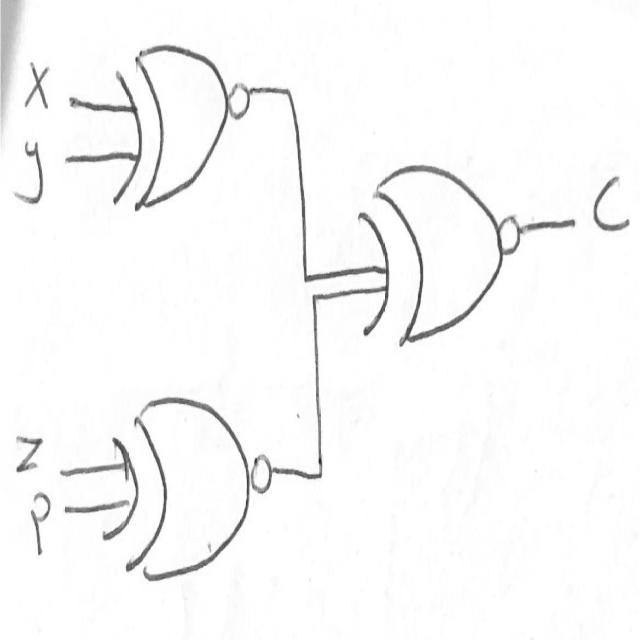XNOR: (346, 138, 540, 364), (96, 360, 288, 587), (106, 28, 257, 253)
